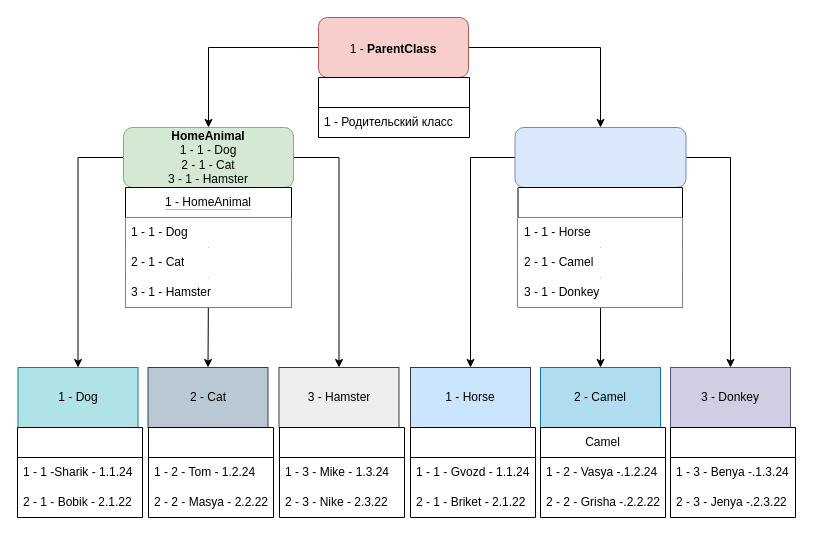
Image size: 813x535. Some labels were removed from this diagram. Each missing label, with the box of its shape:
1 - PackAnimal: (517, 186, 682, 308)
1 - ParentClass: (318, 76, 470, 138)
Cat: (148, 426, 274, 518)
Dog: (16, 426, 142, 518)
Donkey: (670, 426, 796, 518)
Hamster: (278, 426, 404, 518)
Horse: (410, 426, 536, 518)
PackAnimal 1 - 1 - Horse 2 - 1 - Camel 3 - 1 - Donkey: (514, 126, 686, 188)
